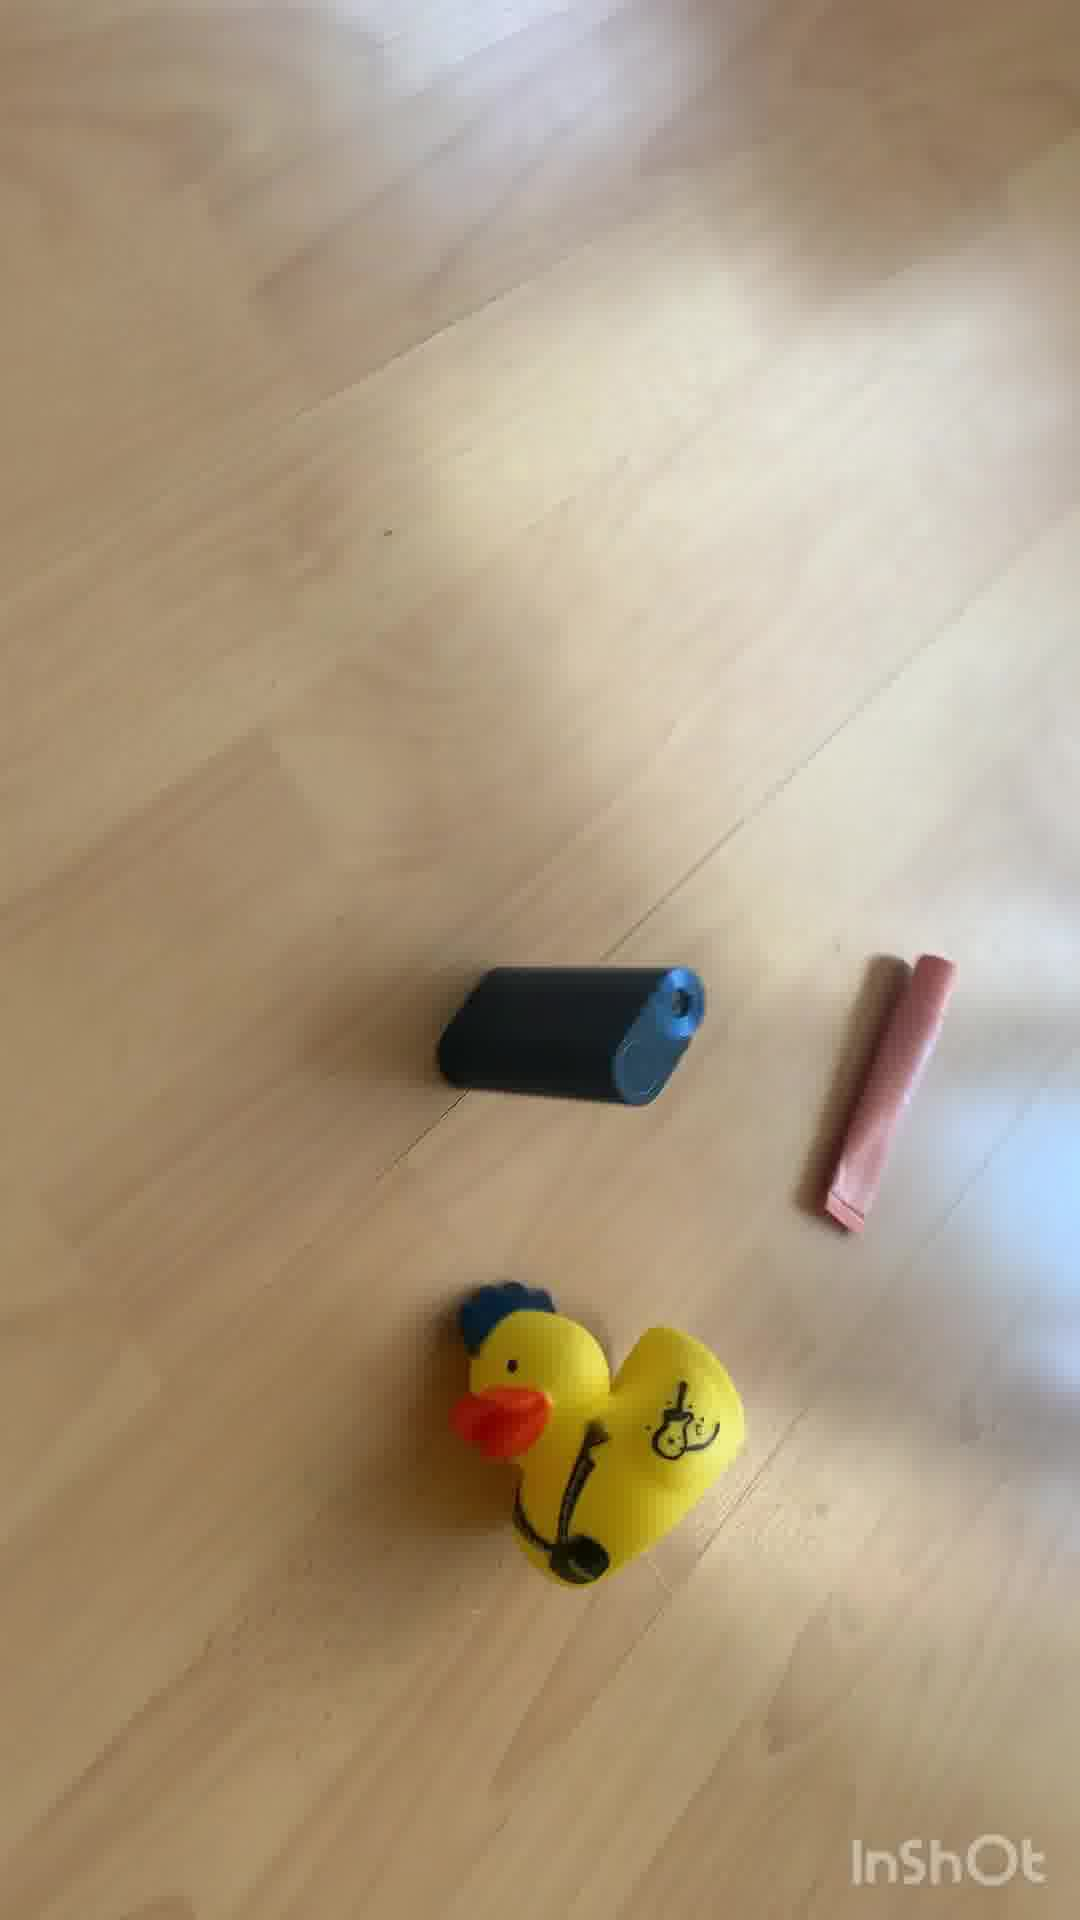duck: (451, 1254, 752, 1604)
glo: (423, 957, 717, 1112)
lip balm: (804, 936, 956, 1234)
